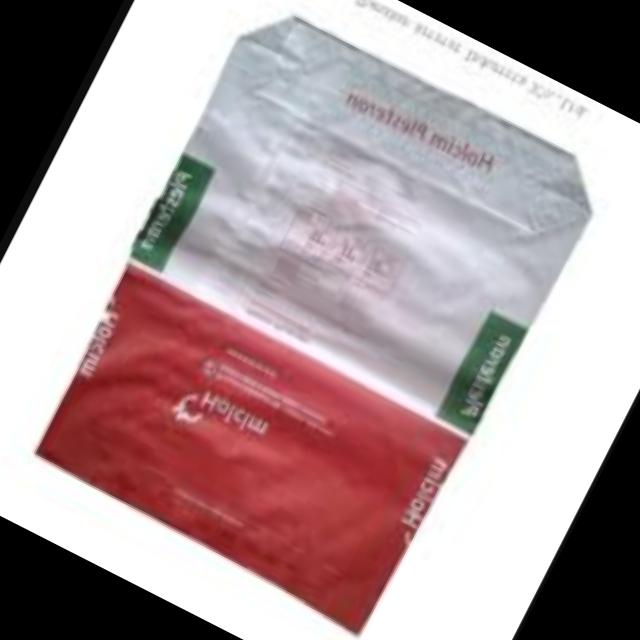KantongSemen: (16, 0, 612, 640)
